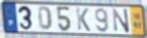0: (37, 5, 54, 32)
3: (17, 4, 36, 31)
5: (56, 5, 73, 33)
9: (94, 7, 110, 34)
K: (75, 7, 92, 33)
N: (111, 8, 131, 34)
